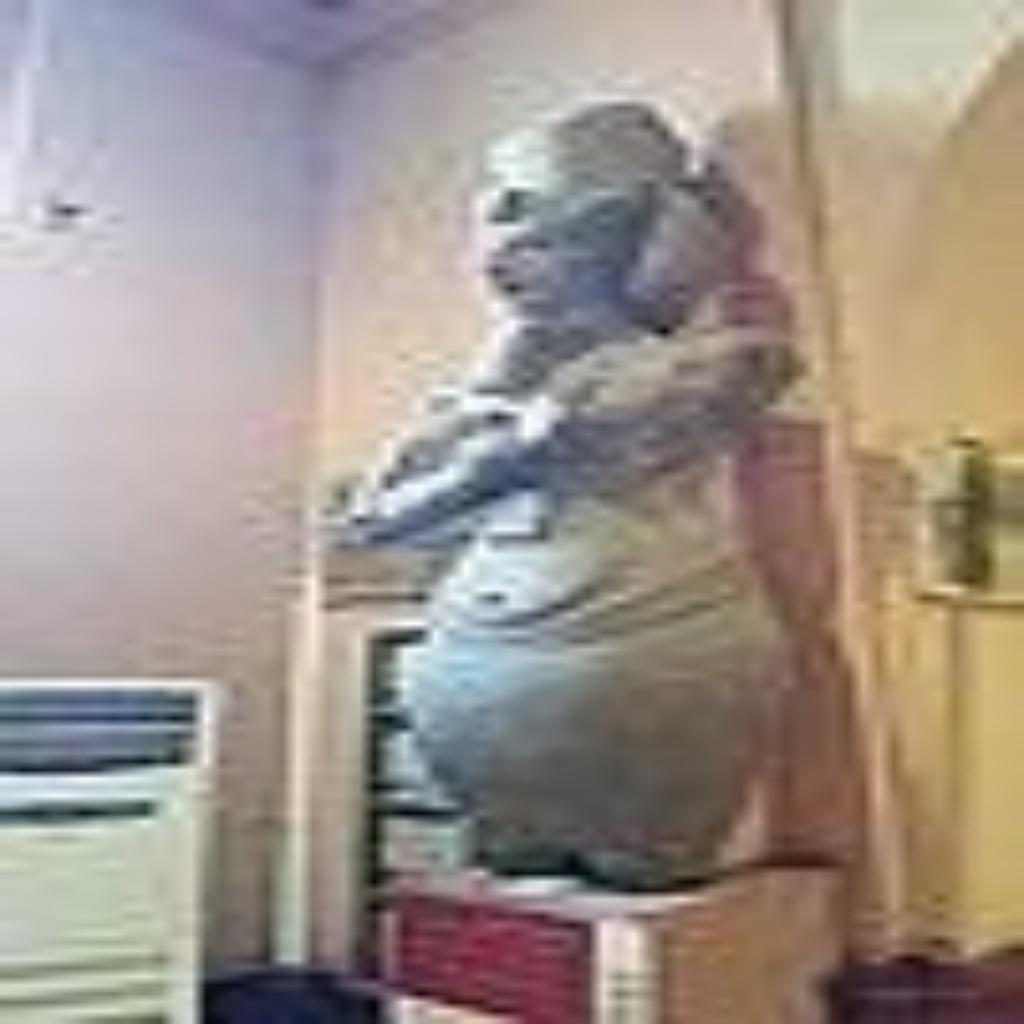Akhenaten: (321, 95, 825, 895)
